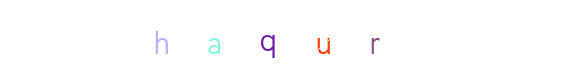A: (200, 0, 280, 80)
H: (175, 0, 255, 80)
Q: (247, 0, 327, 80)
R: (284, 0, 364, 80)
U: (262, 0, 342, 80)
